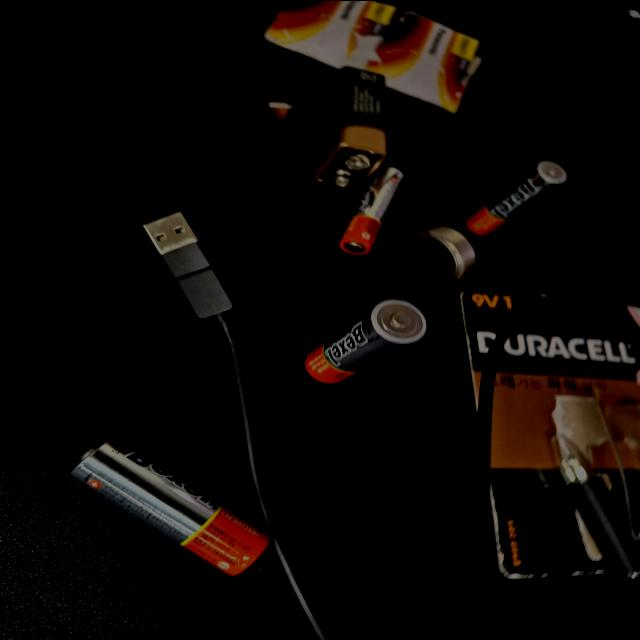9V: (88, 350, 250, 404)
AA: (398, 320, 510, 410), (586, 438, 640, 587)
AAA: (211, 212, 315, 292), (220, 338, 340, 386)
COIN: (300, 284, 378, 336)
